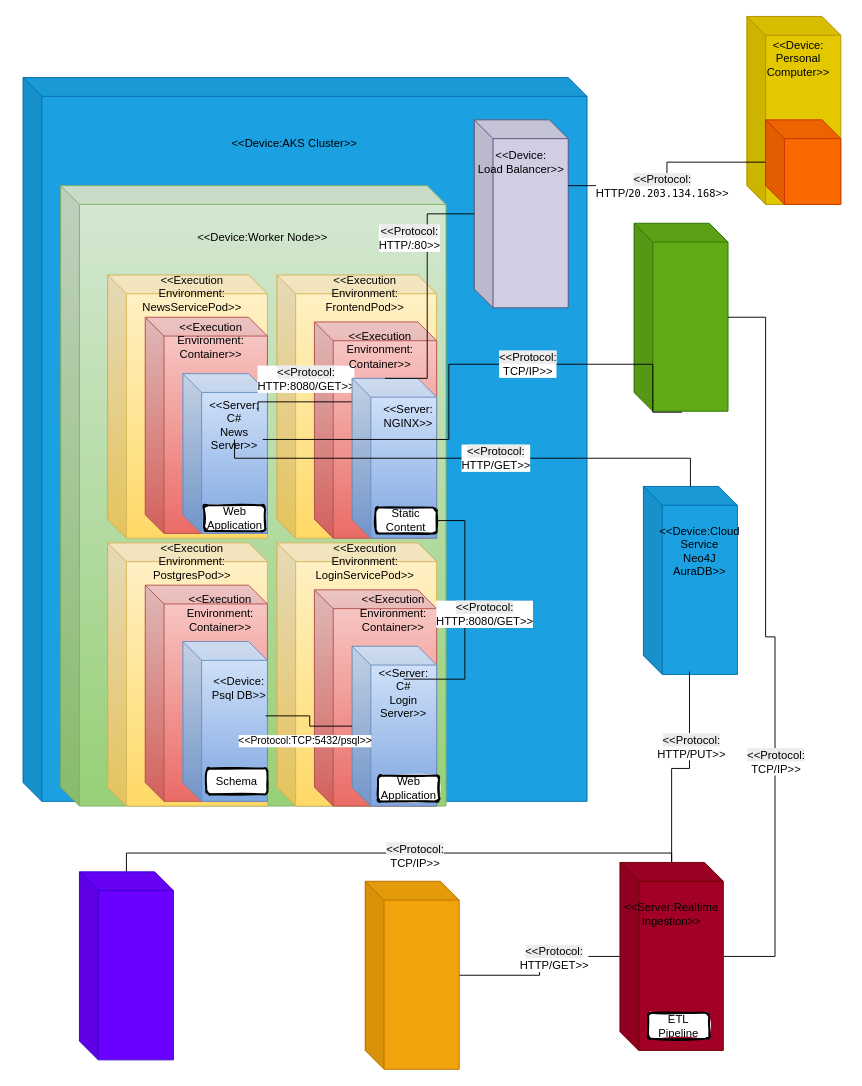
The diagram is 862 pixels wide and 1086 high, and some of its shapes have lost their labels. Here are the shapes that lost their labels. From the top down, the centre of each, then its label:
At point 803,161: "<<Web Browser>>".
At point 680,316: "<<Device:Cloud Service: MongoDB ATLAS>>".
At point 125,965: "<<External System:OpenAI API>>".
At point 411,974: "<<External System:Perigon WebAPI>>".
